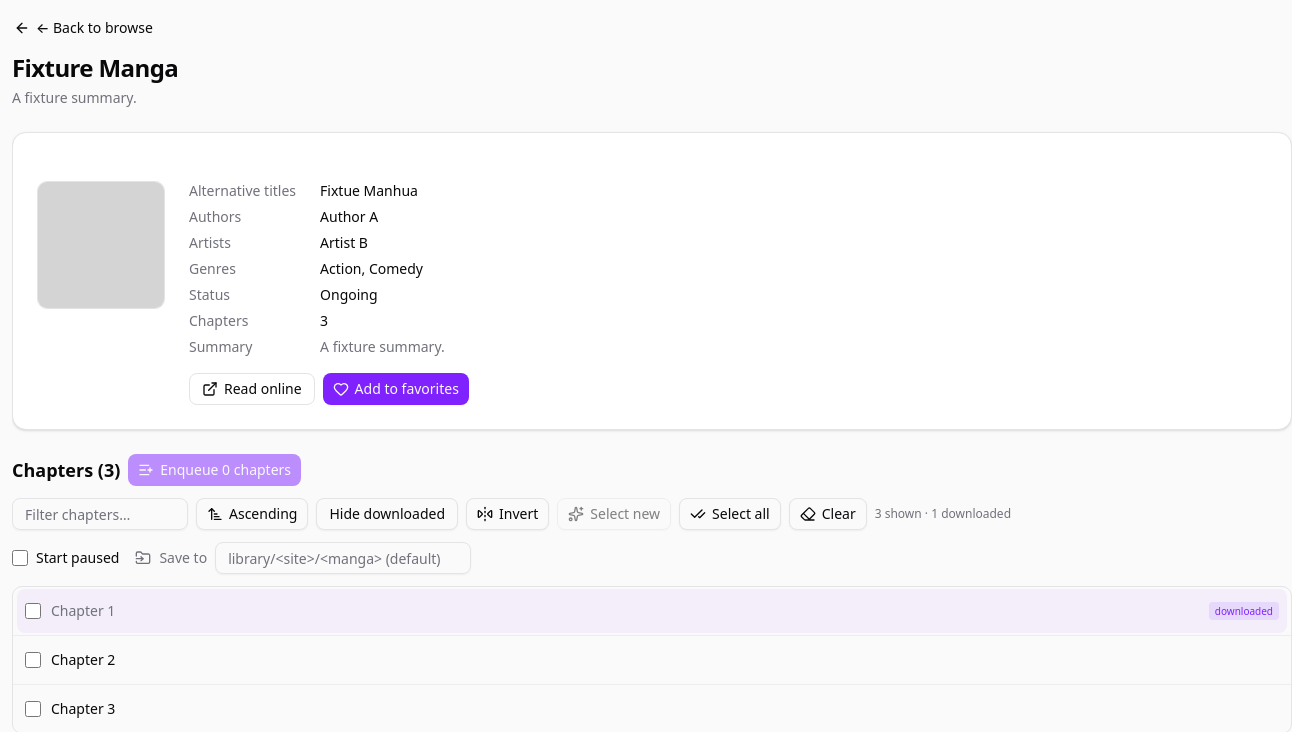
MangaPage parity: chapter toolbar + tinting › descending reverses presentation; ascending restores
Check: the heading "Chapters (3)" is shown, box [12,456,120,484]
Click the button "Ascending" at [252, 514], box [196,498,308,530]
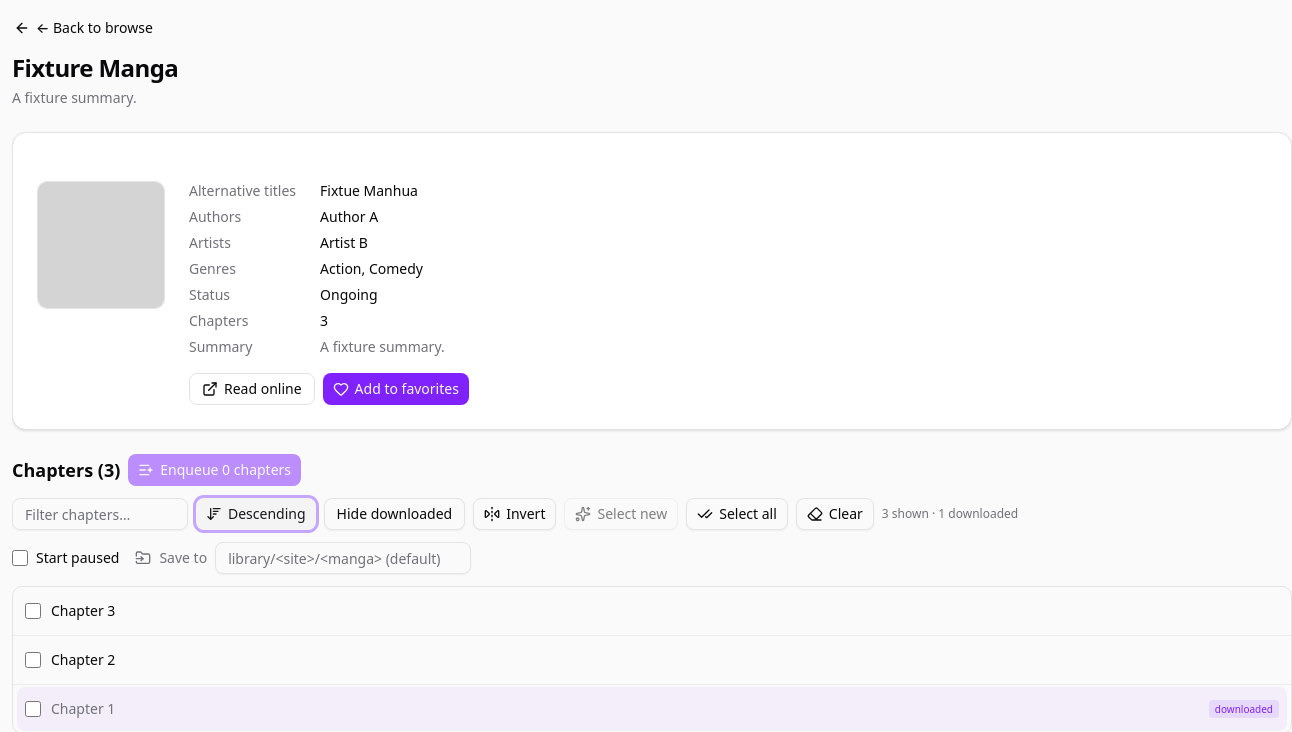
Check: the button "Descending" is shown, box [196,498,316,530]
